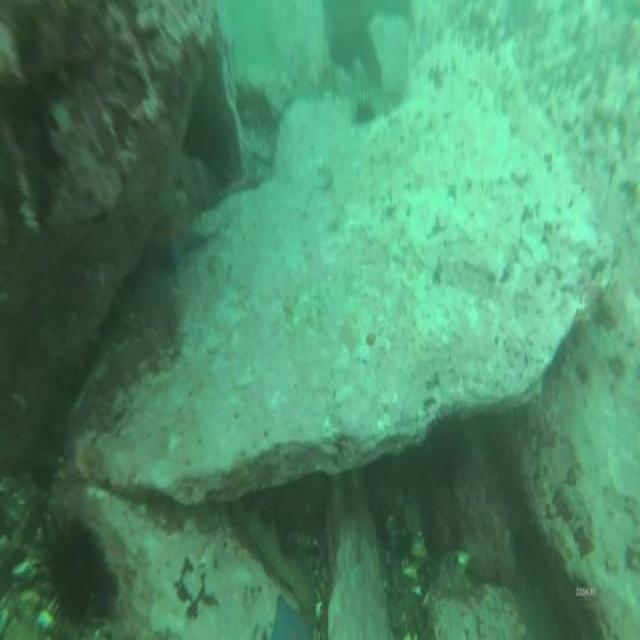echinus: (46, 530, 110, 622)
starfish: (152, 215, 207, 272)
